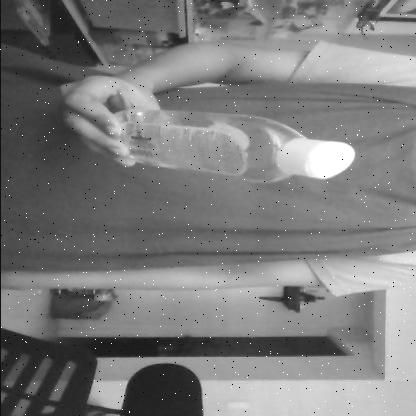Plastic Bottle: (90, 102, 360, 181)
